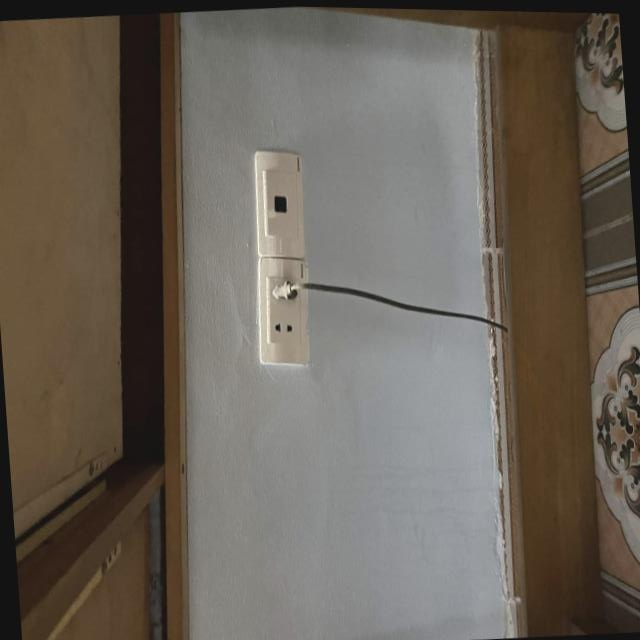outlet: (251, 256, 313, 370), (249, 148, 308, 262)
